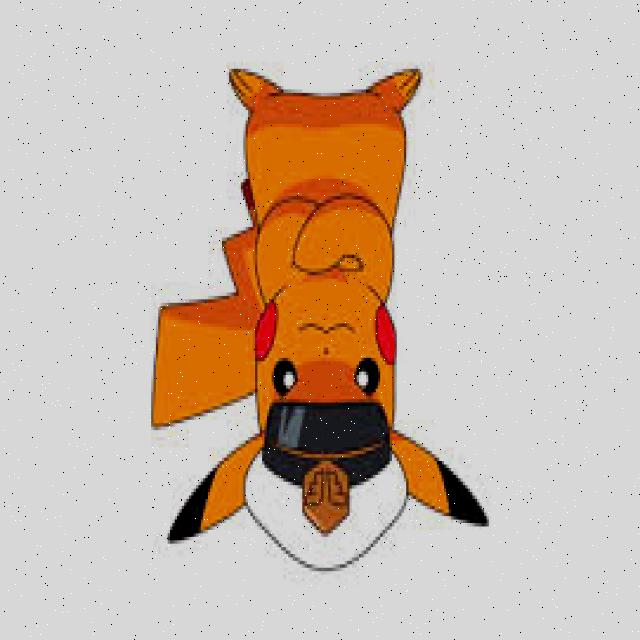pikachu: (151, 52, 491, 570)
